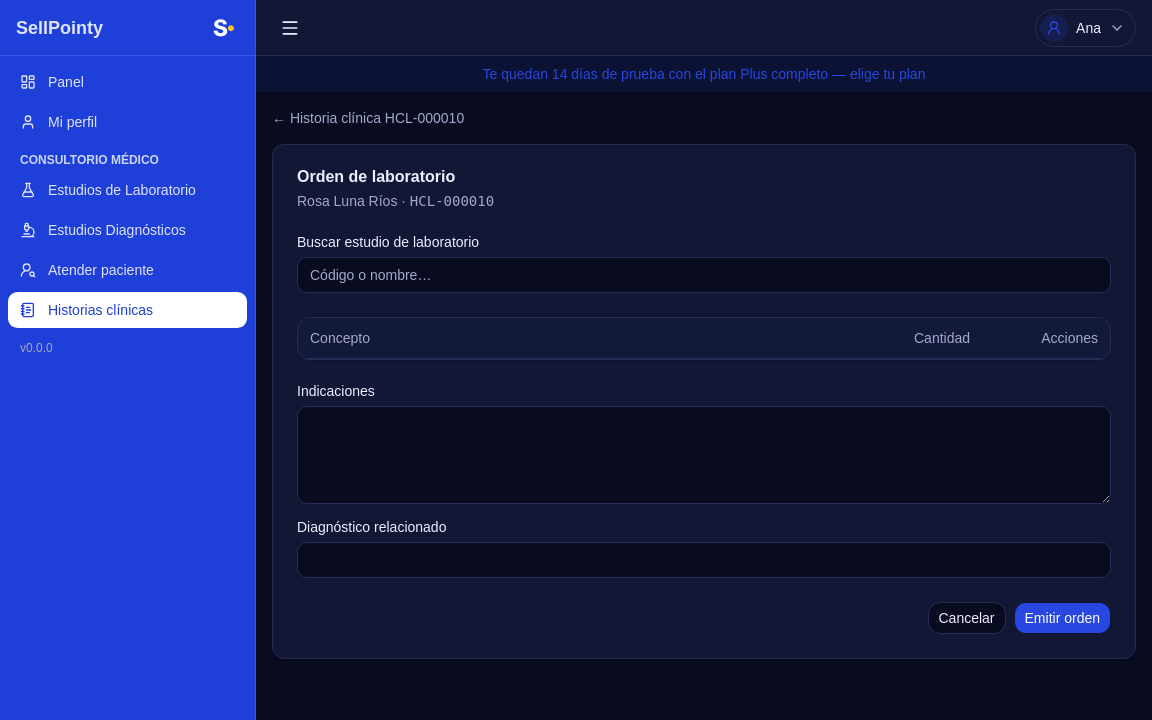
Test: orden de laboratorio (F9-CLINIC-WEB-17) › al agregar, la lista de resultados se va: el buscador queda listo para el siguiente
This screenshot has width=1152, height=720.
Type "b" into the search field labelled "Buscar estudio de laboratorio". click: (704, 275)
box: [297, 257, 1111, 293]
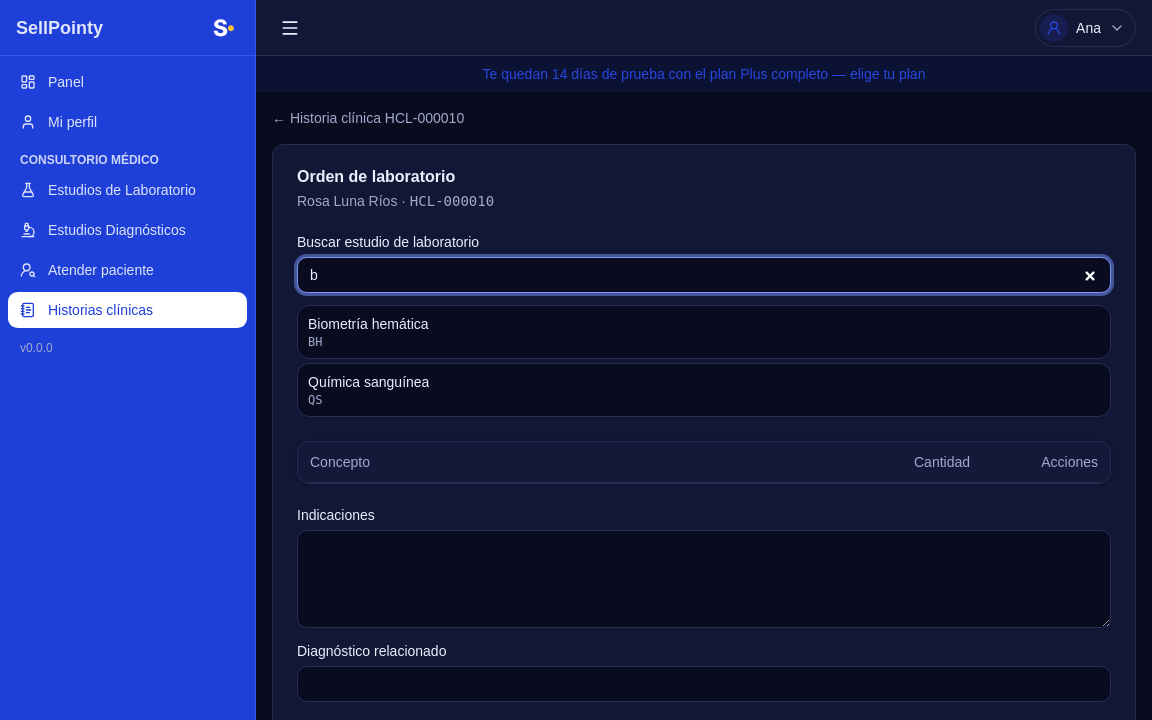
Click the button "Biometría hemática BH". click: (368, 324)
box: [297, 305, 1111, 359]
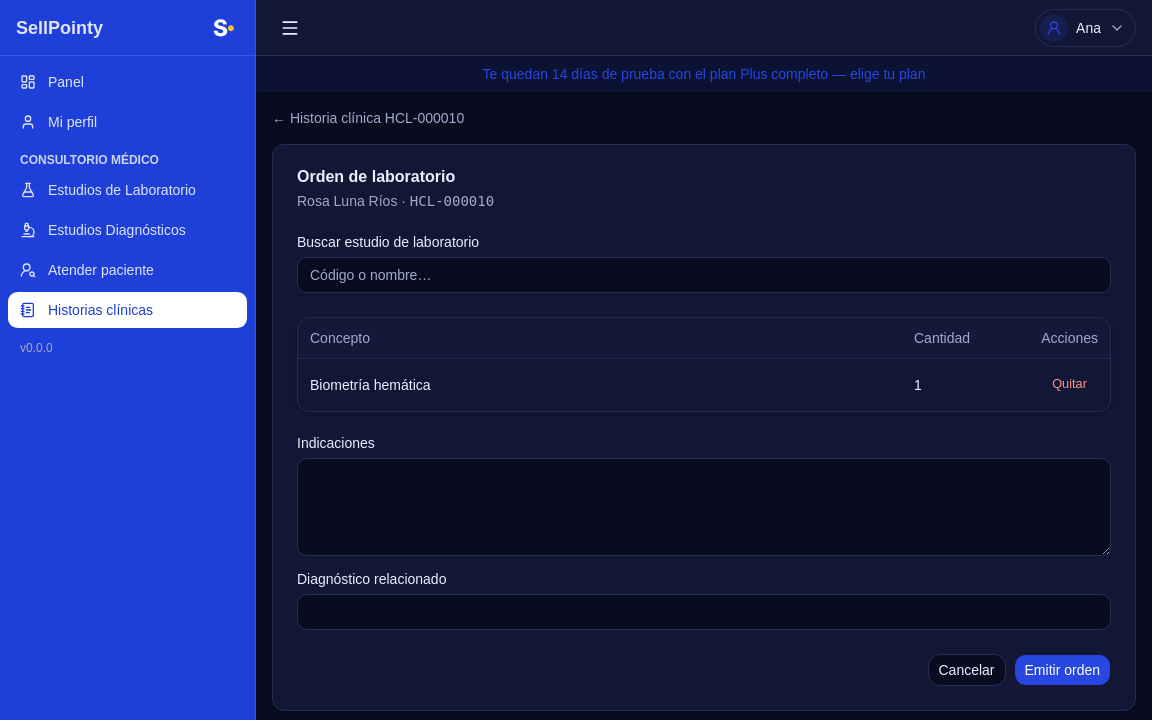
Result: the search field labelled "Buscar estudio de laboratorio" is empty at [297, 257, 1111, 293]
Result: the element with test id "order-lines" shows "Biometría hemática" at [310, 376, 431, 392]
